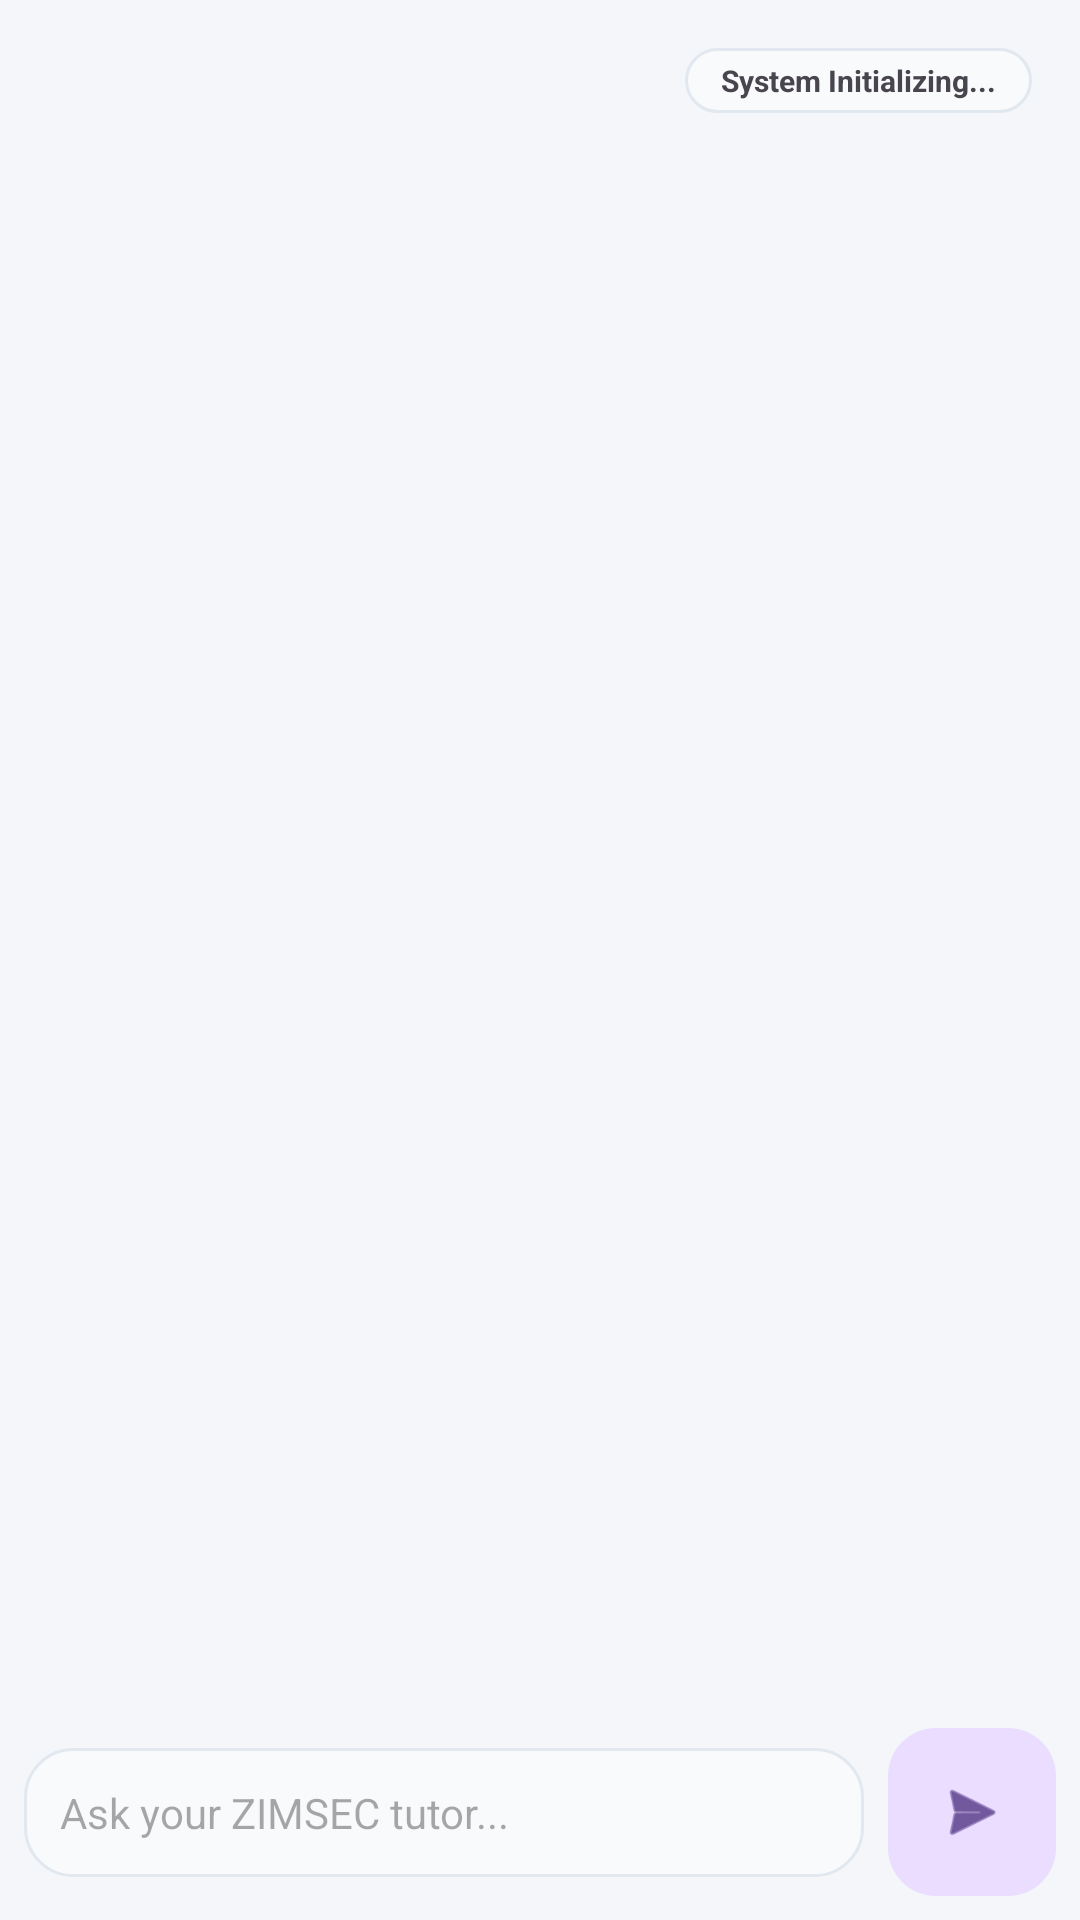

Named icons in this screenshot (1080w x 1920h) and their bounding boxes, rect(x1, y1, x2, y2):
Send: rect(888, 1728, 1056, 1896)
